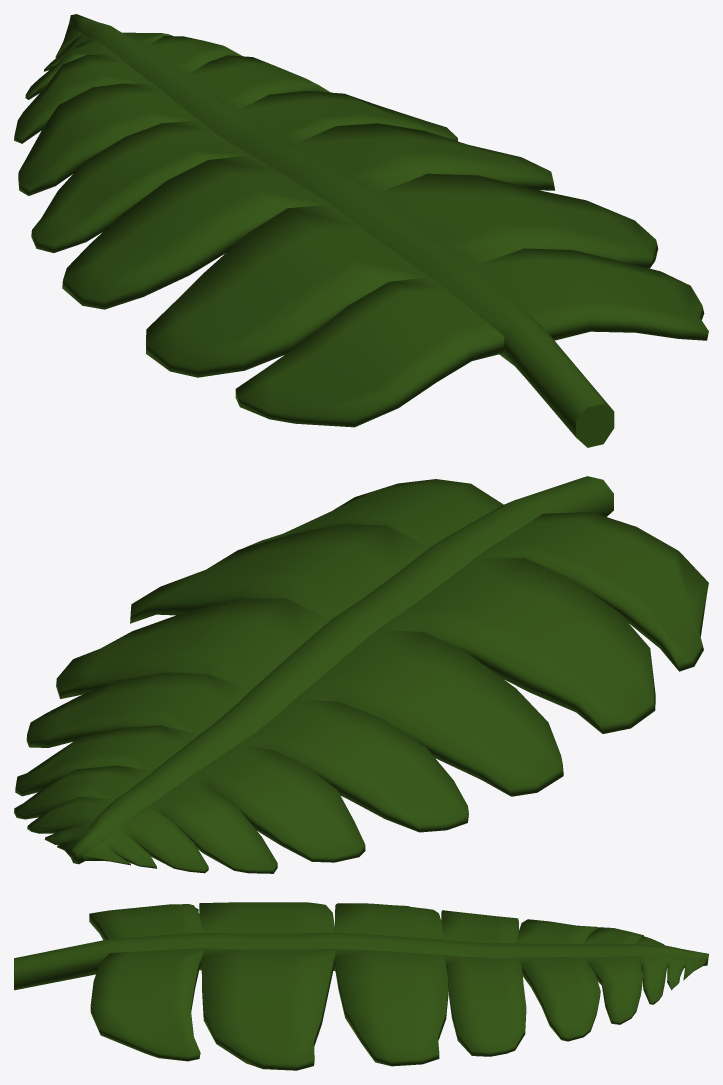
Rendered from Big_Leaf.fbx.
The picture shows the model from 3 angles, top to bottom: view 1: azimuth 30°, elevation 25°; view 2: azimuth 150°, elevation 25°; view 3: azimuth 270°, elevation 25°; orthographic projection. The views are drawn at different scales.
Parts seen in each view (by area): view 1: Big_Leaf; view 2: Big_Leaf; view 3: Big_Leaf.
Part boxes in pixels (<box>): Big_Leaf: <box>14,14,708,447</box>; Big_Leaf: <box>14,476,708,873</box>; Big_Leaf: <box>14,902,708,1070</box>.
Bounding box in the file's own units: 123 × 19.17 × 225.
